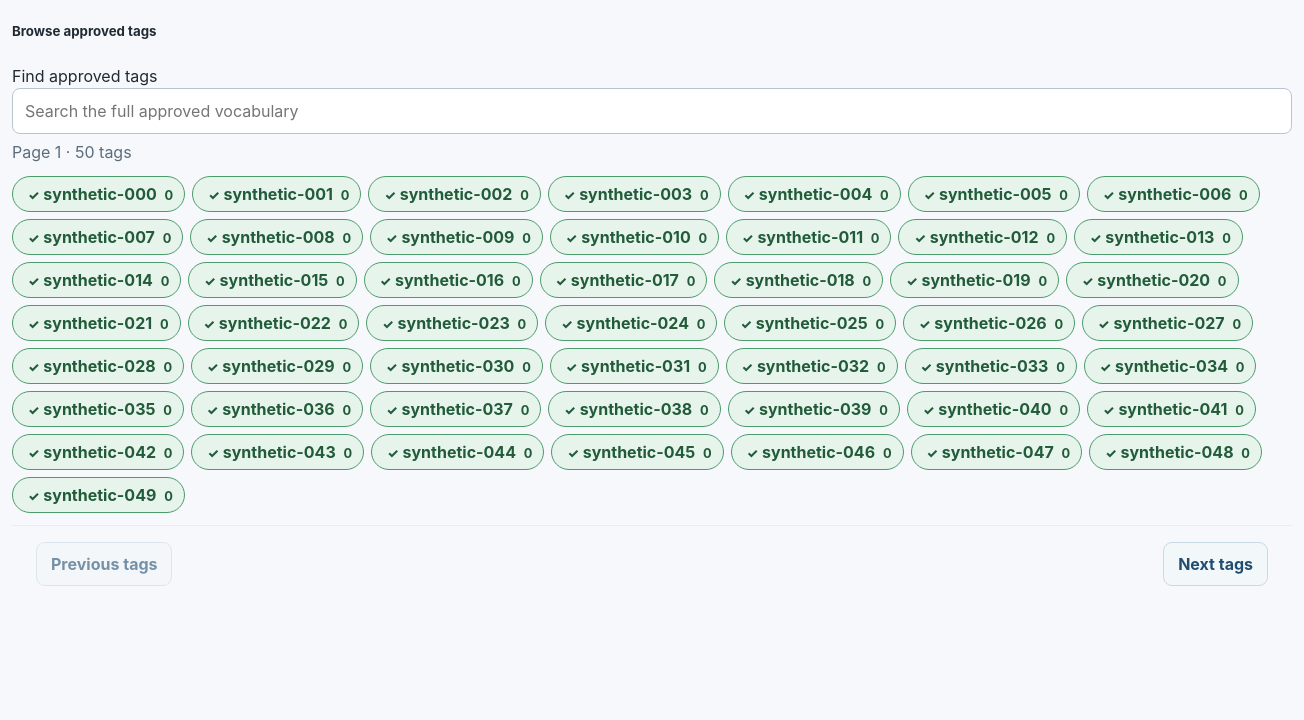
Test: restarts at the first page if a concurrent mutation invalidates the catalog revision
Click the button "Next tags": (1216, 564) top-left (1163, 542), bottom-right (1268, 586)
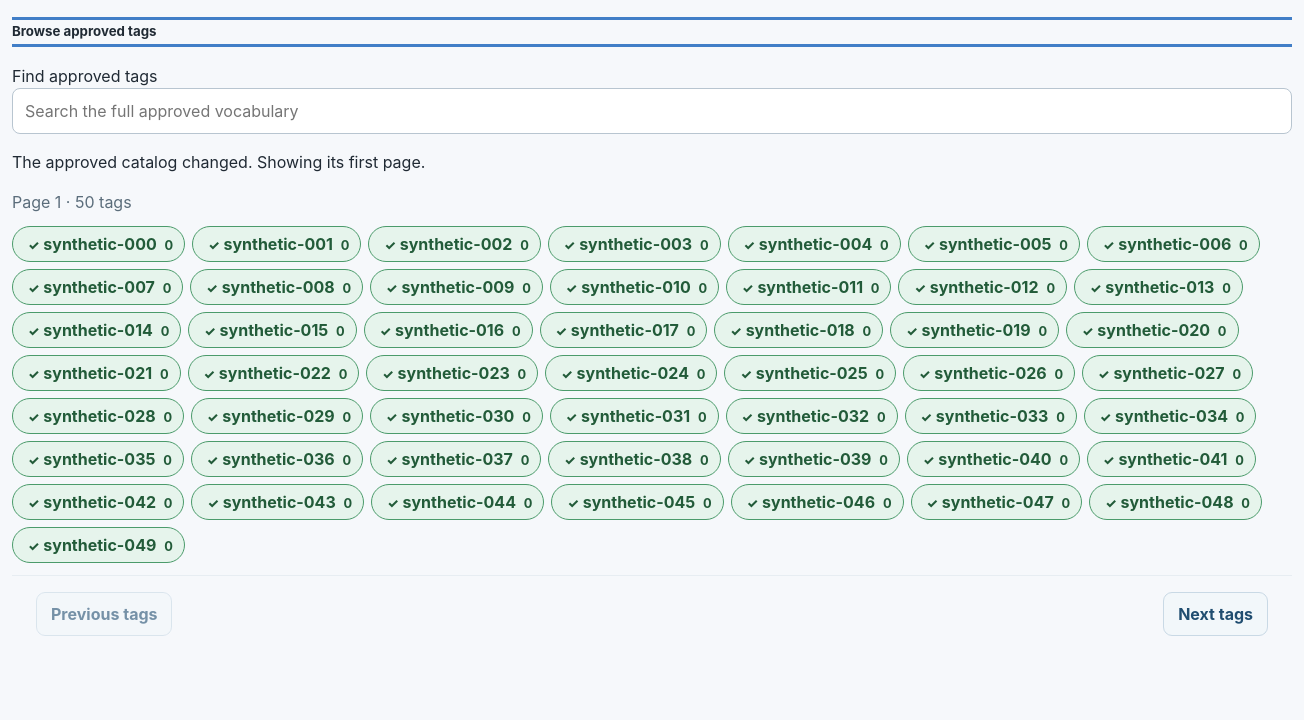
Expected: the text "Page 1" is shown, top-left (12, 192), bottom-right (132, 212)
Expected: the text "The approved catalog changed" is shown, top-left (12, 152), bottom-right (425, 172)
